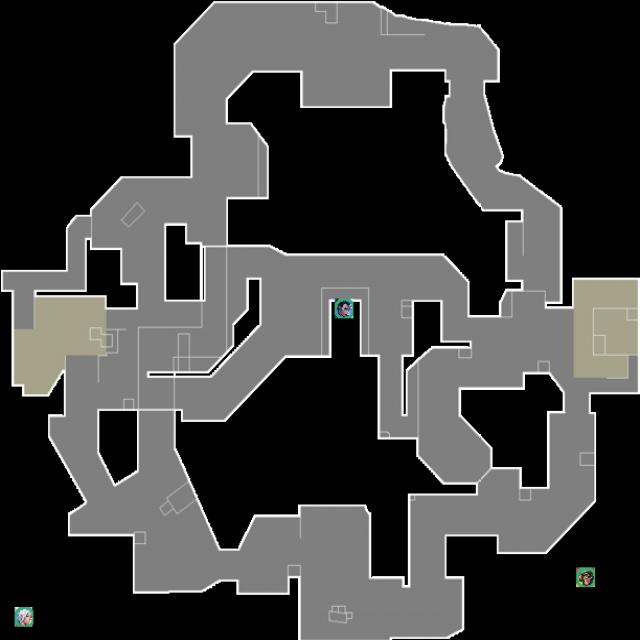def_jett: (14, 607, 34, 627)
def_killjoy: (576, 567, 595, 587)
def_yoru: (334, 298, 354, 318)
